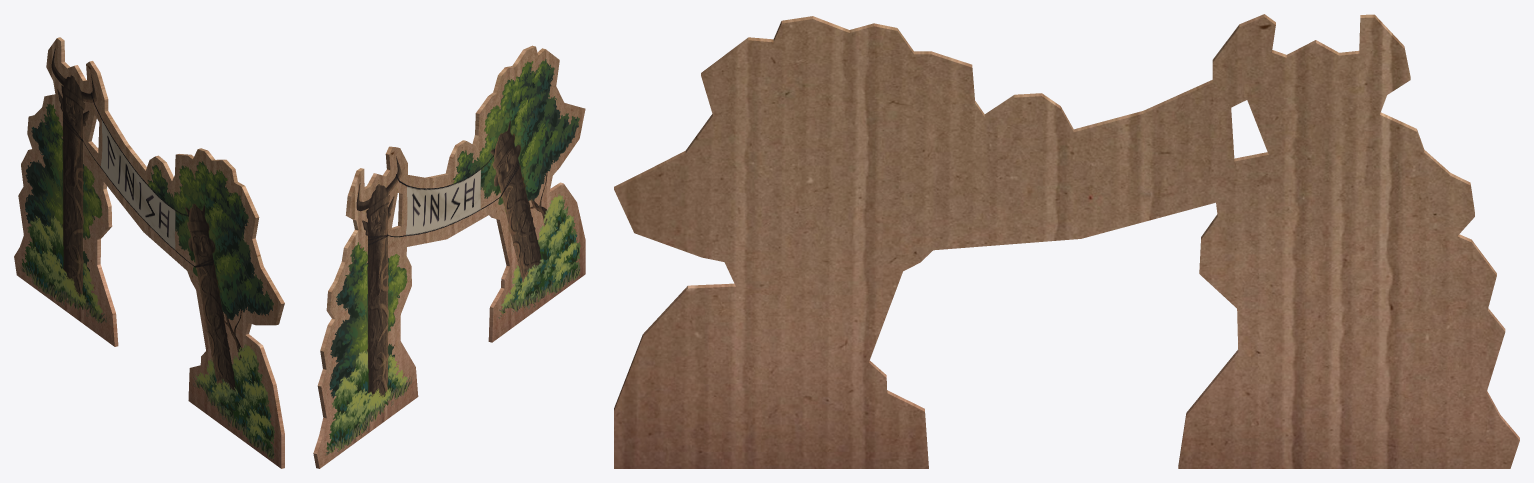
File: Finish.fbx
3 views of the same model, side by side, from view 1: azimuth 30°, elevation 25°; view 2: azimuth 150°, elevation 25°; view 3: azimuth 270°, elevation 25° (orthographic). The views are drawn at different scales.
Parts seen in each view (by area): view 1: Finish; view 2: Finish; view 3: Finish.
Boxes of the visible parts, x1,y1,x2,y2 form: Finish: (14,37,284,468); Finish: (313,45,585,468); Finish: (614,14,1519,468).
Bounding box in the file's own units: 11.9 × 685 × 1245.
